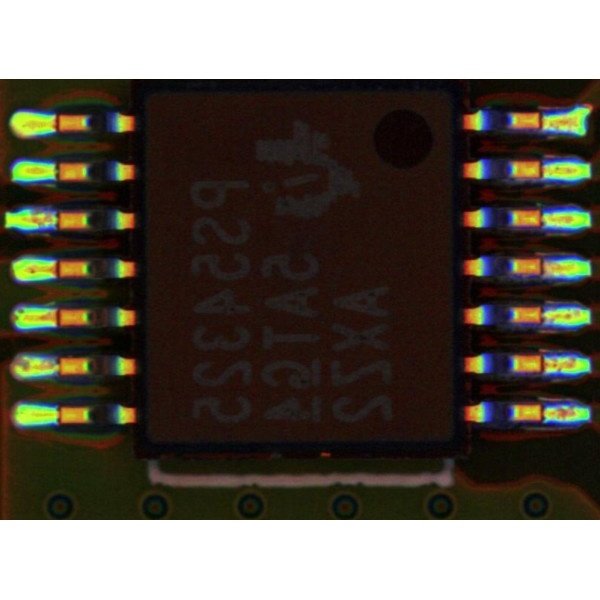Bad_podu: (39, 118, 72, 131), (38, 312, 71, 324), (42, 262, 70, 275), (532, 262, 557, 275), (530, 359, 557, 371)
